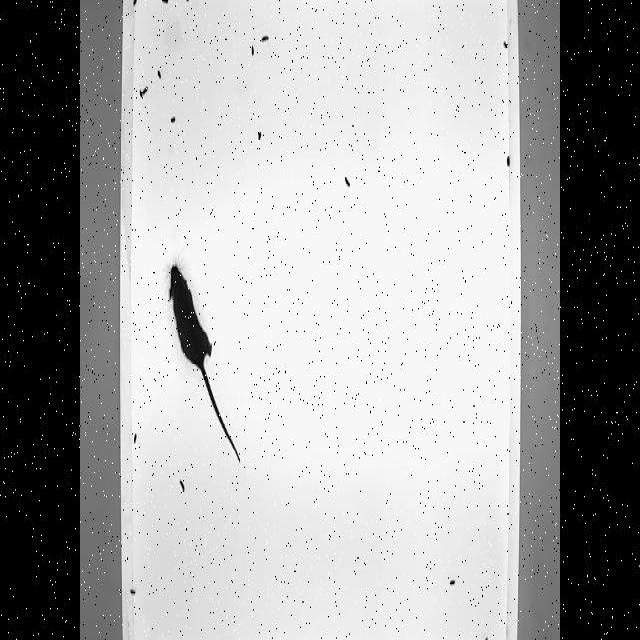rat: (168, 261, 240, 459)
